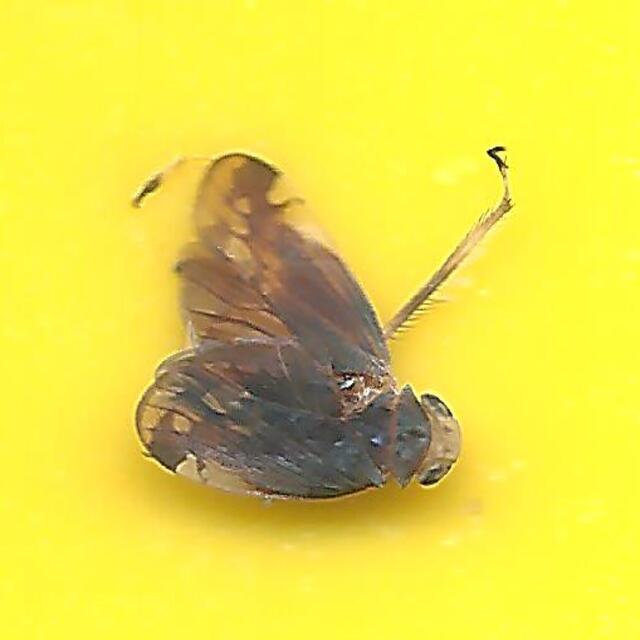Hemiptera: (126, 145, 514, 495)
